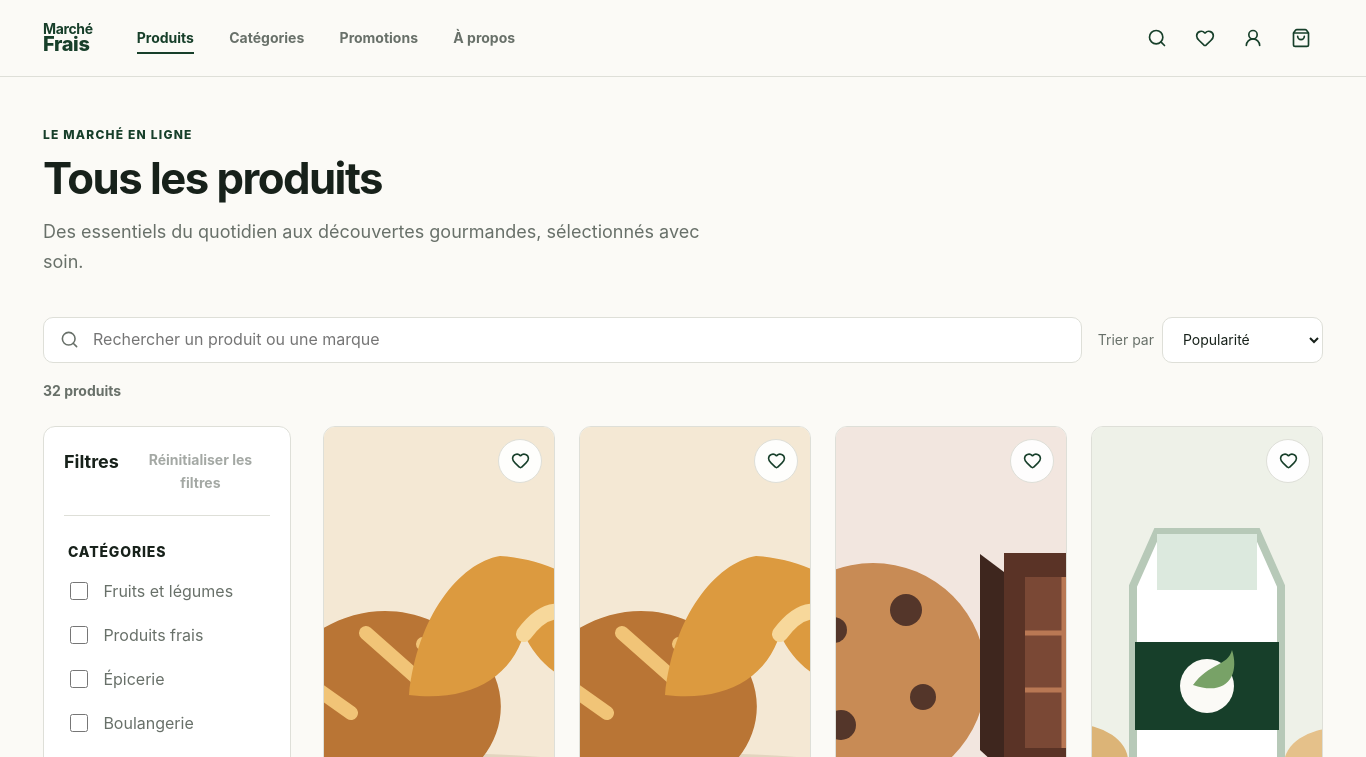
Test case: catalog pages › renders the complete catalogue and filters it through the search field
The width and height of the screenshot is (1366, 757).
Expected: the heading "Tous les produits" is shown, [43,152,382,205]
In the search field named "Rechercher par nom ou marque": (578, 340) [91,325,1065,354], type "amandes"
(page scrolled)
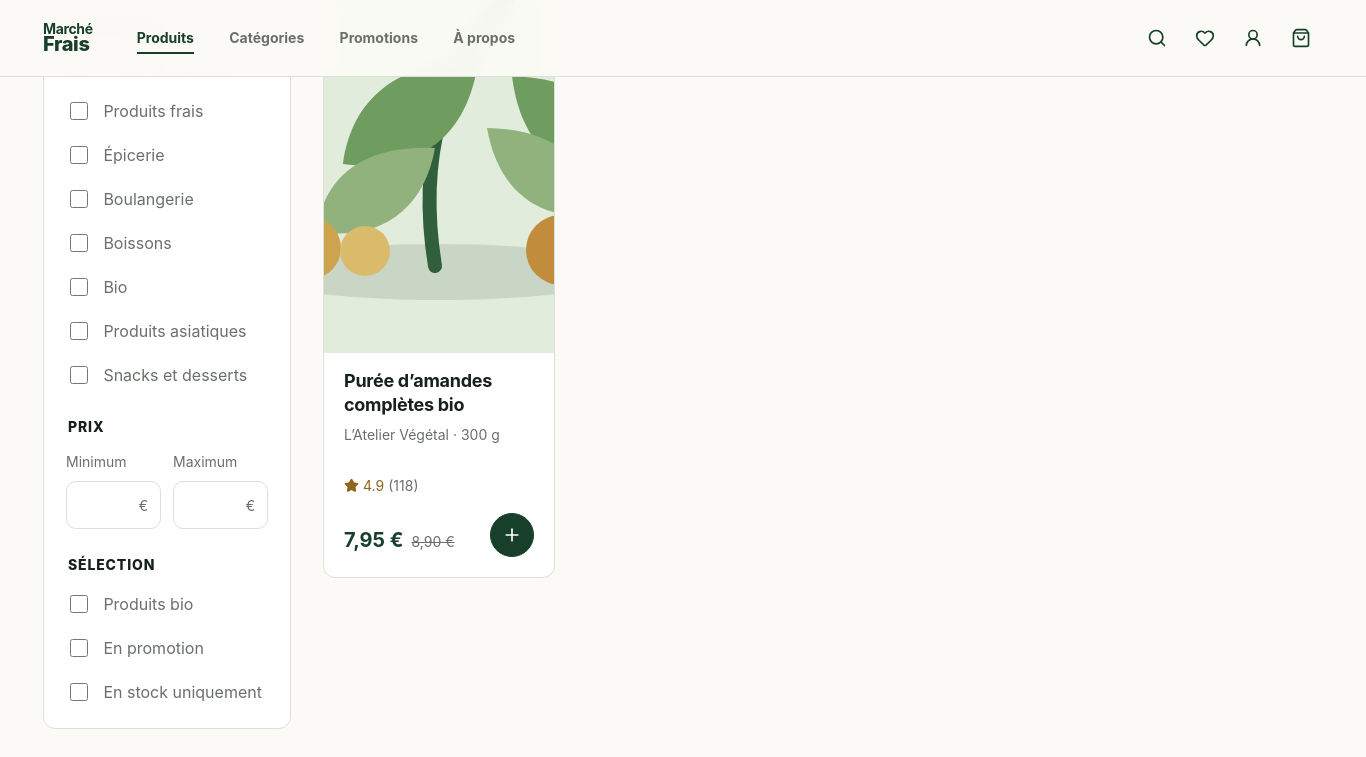
Result: the heading "Purée d’amandes complètes bio" is shown at [344,370,492,415]
